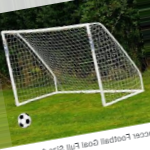goals: (1, 21, 146, 109)
